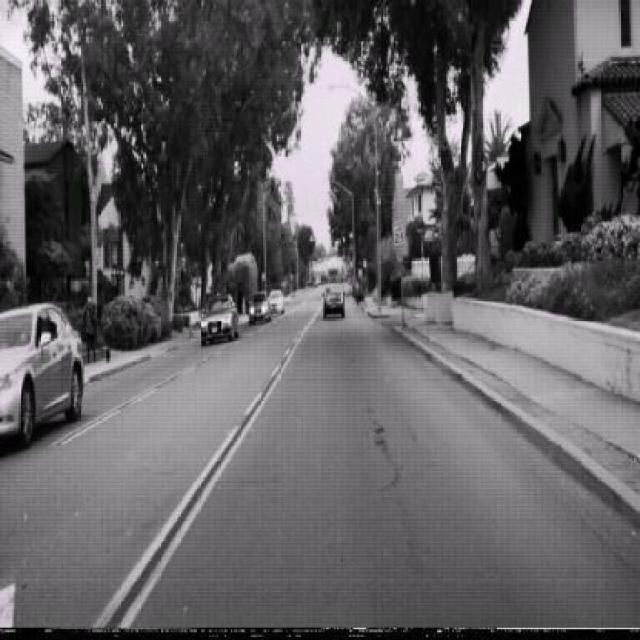speedLimit25: (392, 217, 405, 246)
